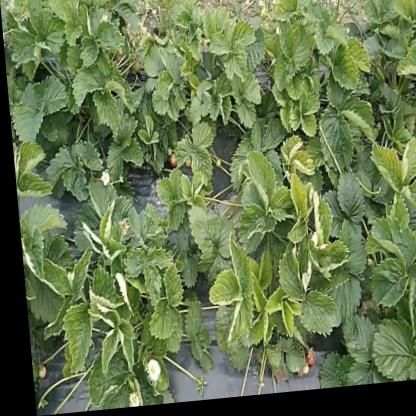ripe: (298, 355, 310, 372), (167, 157, 175, 169)
unripe: (31, 366, 41, 379), (131, 65, 139, 76), (181, 160, 189, 171), (294, 369, 301, 379), (212, 163, 219, 171)
